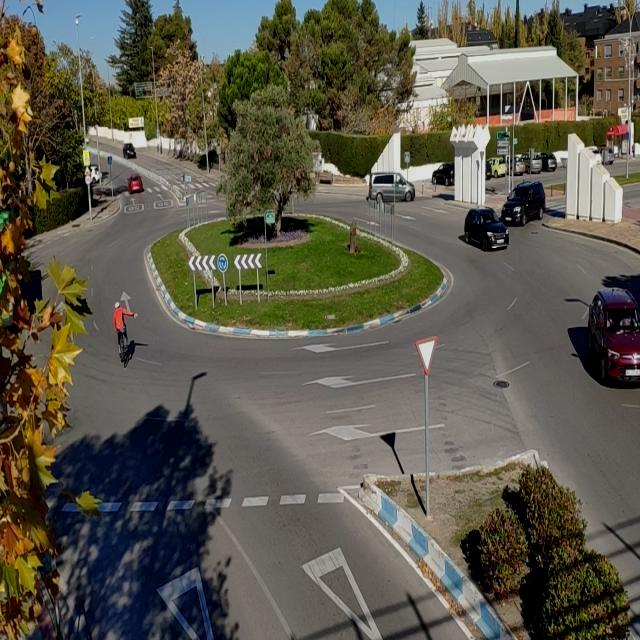Car: (587, 286, 640, 387), (464, 208, 511, 252), (127, 175, 144, 193), (122, 143, 136, 159)
Cycle: (117, 326, 131, 370)
Van: (499, 181, 546, 226), (368, 172, 416, 202)
